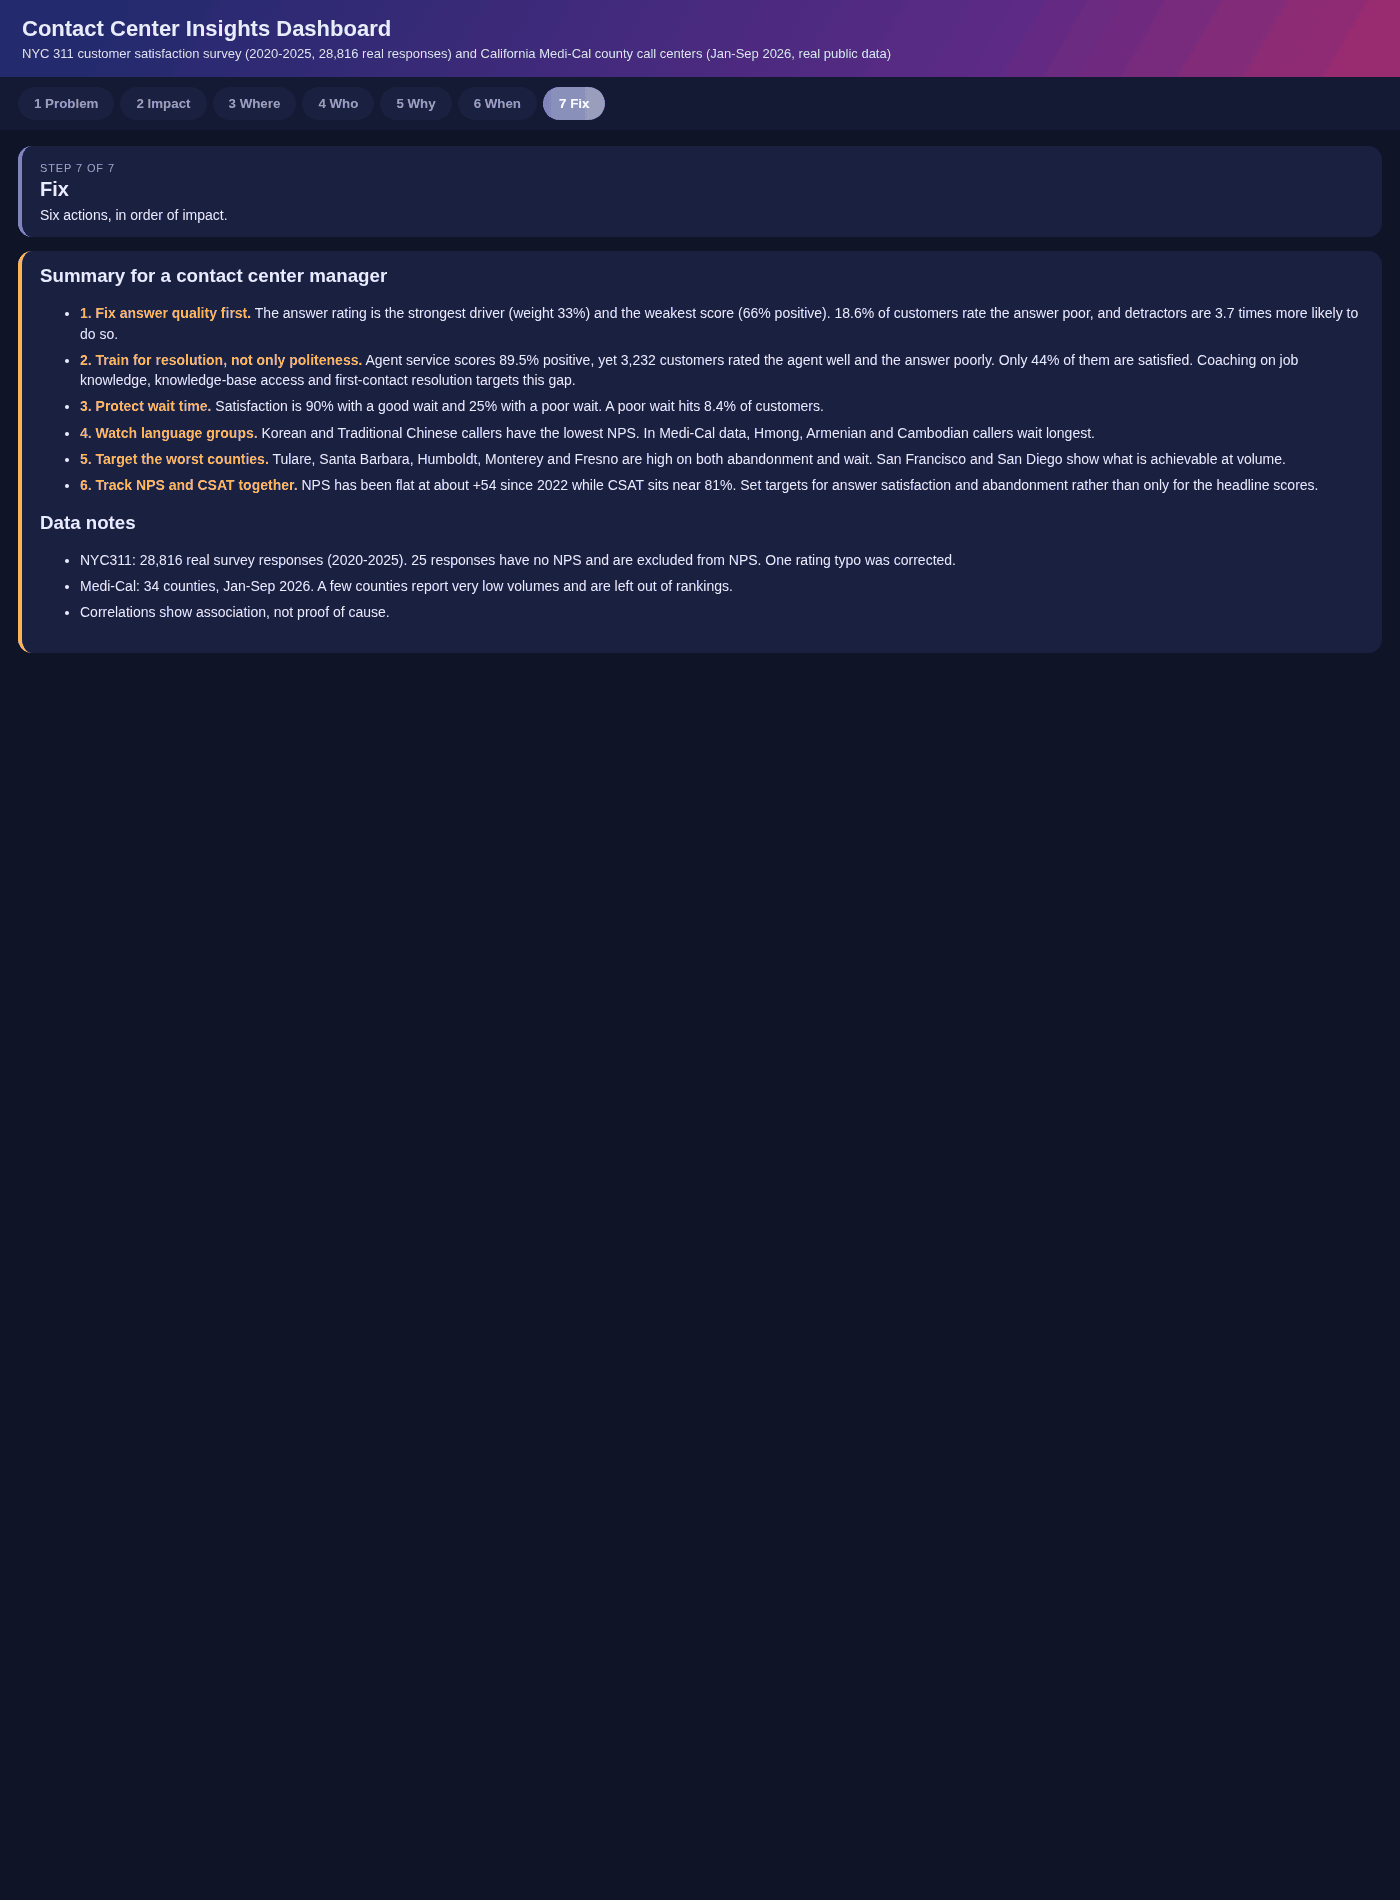

This screenshot's page, from the dashboard's own definition file:
{"tool":"powerbi","page":{"name":"7 Fix","canvas":[1280,720],"ordinal":6},"visuals":[{"type":"card","fields":{"Values":["Survey.Text S7"]},"box":[20,10,1240,80],"z":0}]}

Visuals, with their boxes on the page's 1280x720 design canvas (x1, y1, x2, y2). These are canvas units, not pixel positions in the 1400x1900 screenshot, which may show the page scaled, cropped or inside an application window:
card - Survey.Text S7: bbox(20, 10, 1260, 90)
